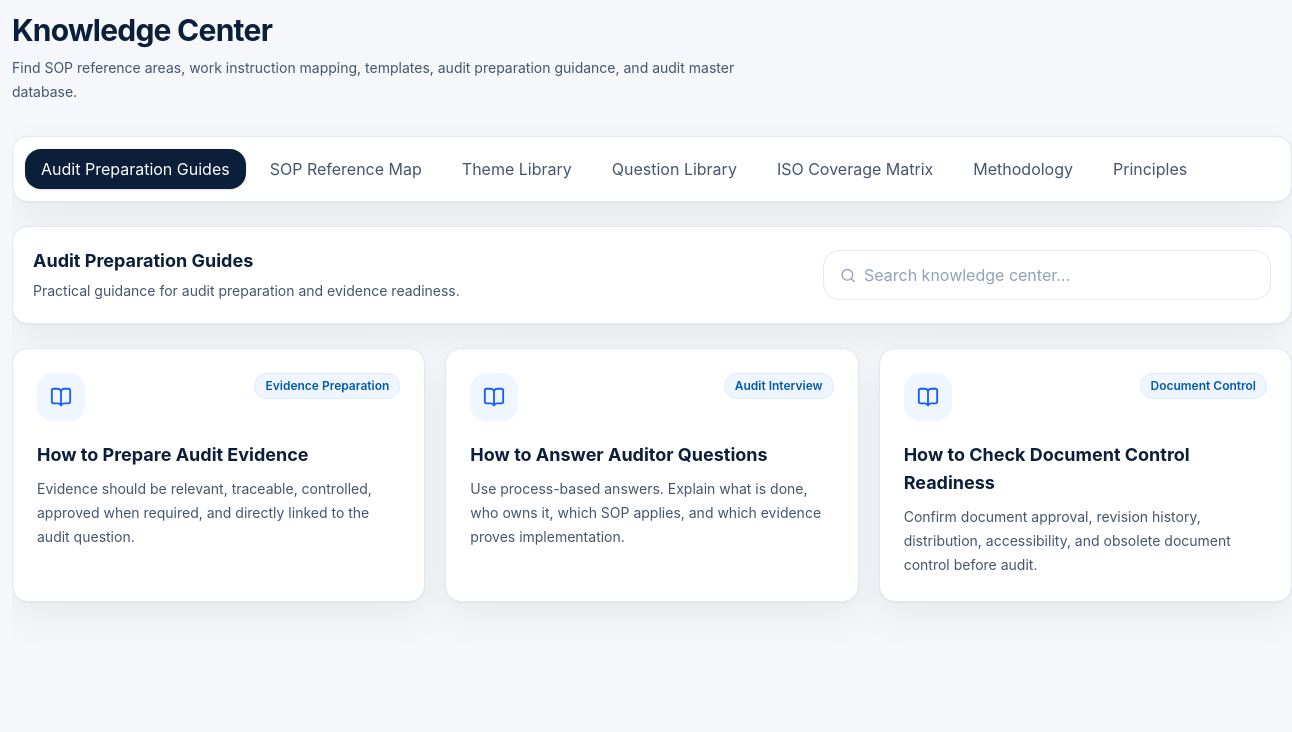
KnowledgeCenter › shows a master-data error without blanking local guides
The image size is (1292, 732).
Expected: the heading "How to Prepare Audit Evidence" is shown, left=37, top=444, right=309, bottom=465
Click the button "Theme Library" at (517, 169), box left=446, top=149, right=588, bottom=189
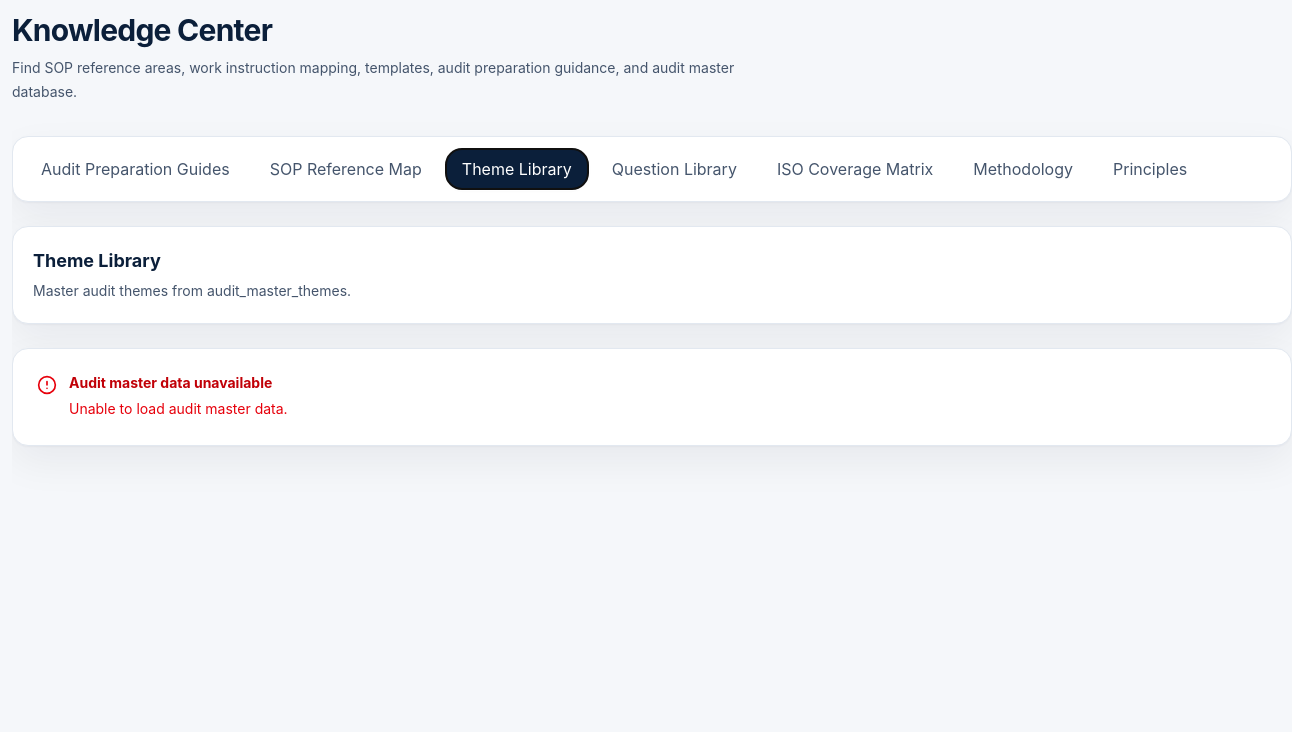
Expected: the text "Unable to load audit master data." is shown, left=69, top=397, right=288, bottom=421
